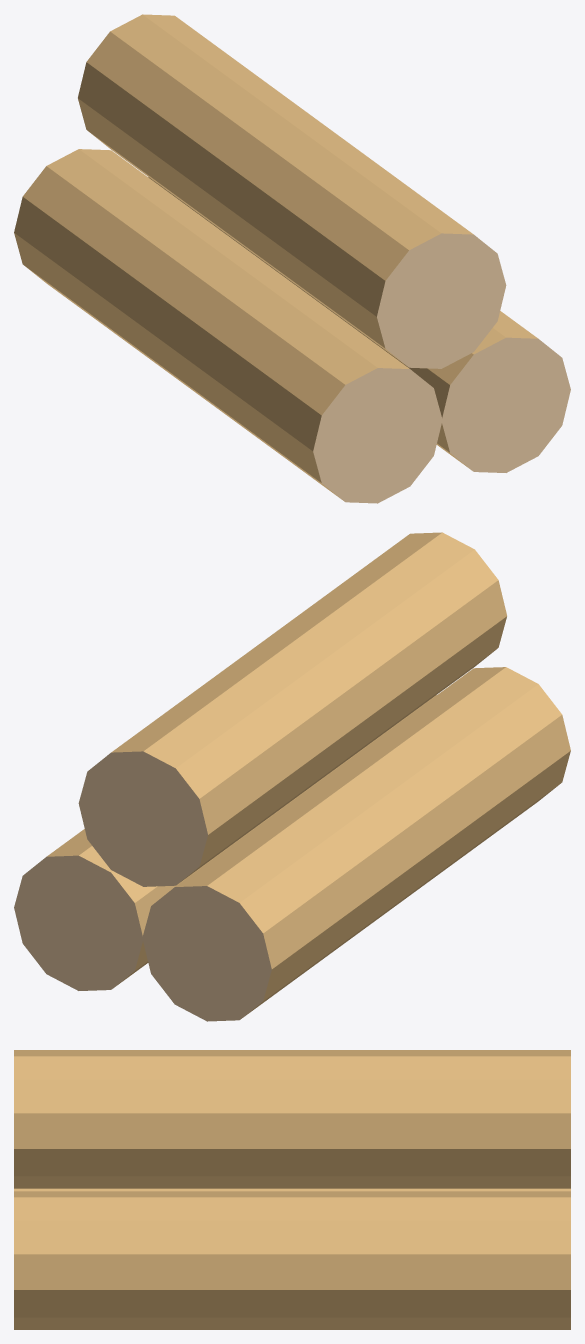
The model's file is pine_wood.glb.
3 views of the same model, one above another, from view 1: azimuth 30°, elevation 25°; view 2: azimuth 150°, elevation 25°; view 3: azimuth 270°, elevation 25° (orthographic). The views are drawn at different scales.
Visible parts, largest first — view 1: pine_wood; view 2: pine_wood; view 3: pine_wood.
Boxes of the visible parts, <box> form: pine_wood: <box>14,14,570,503</box>; pine_wood: <box>14,532,570,1021</box>; pine_wood: <box>14,1050,570,1329</box>.
Size of the model in its own units: 0.2386 by 0.2259 by 0.4793.
